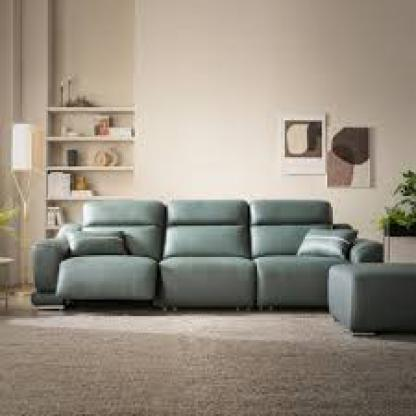sofa: (30, 196, 408, 318)
